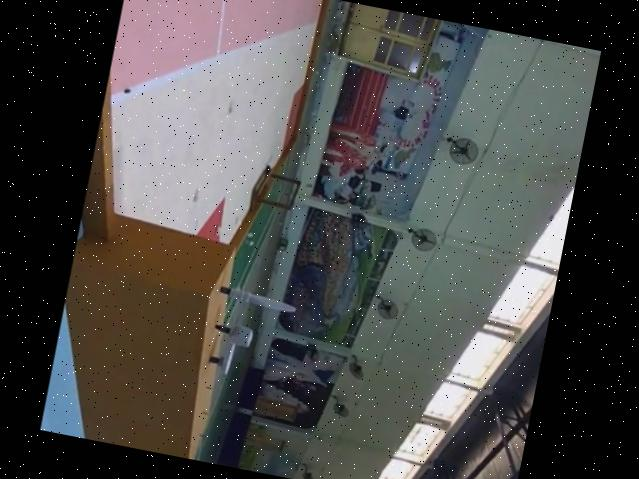Fist: (213, 318, 257, 347)
Hand: (204, 343, 233, 373)
Sph: (216, 276, 299, 314)
